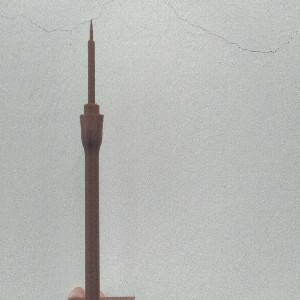solder: (78, 18, 105, 300)
